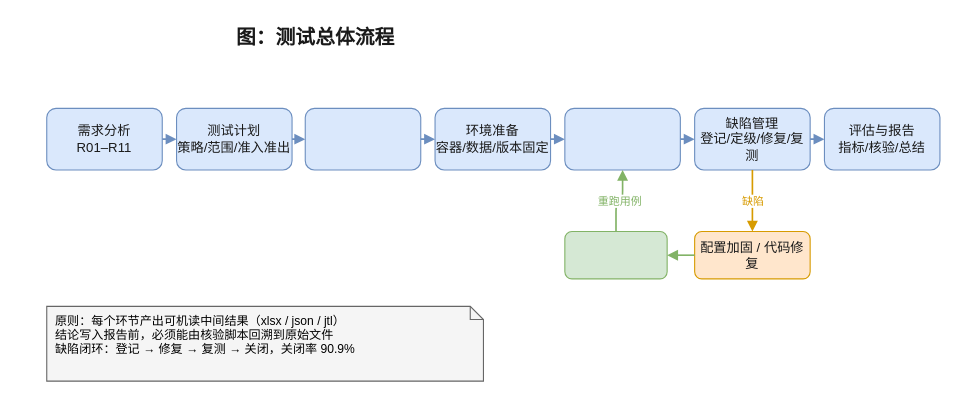
Image size: 959x400. Some labels were removed from this diagram. Each missing label, with the centre of its shape:
"回归复测" belongs at pixel 615 254.
"测试执行 功能/接口/性能/安全/兼容" belongs at pixel 622 138.
"用例设计 等价类/边界/状态/判定表" belongs at pixel 362 138.
